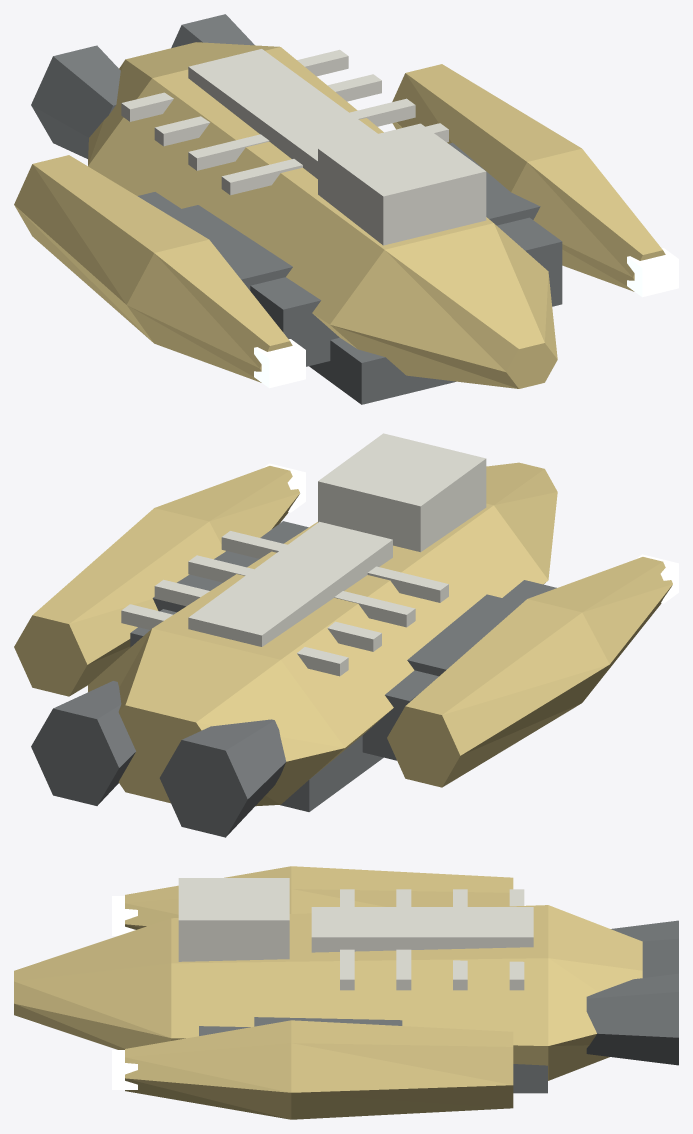
3 renders of one model, top to bottom at view 1: azimuth 30°, elevation 25°; view 2: azimuth 150°, elevation 25°; view 3: azimuth 270°, elevation 25°, orthographic. The views are drawn at different scales.
Size of the model in its own units: 5.37 by 1.95 by 7.55.
